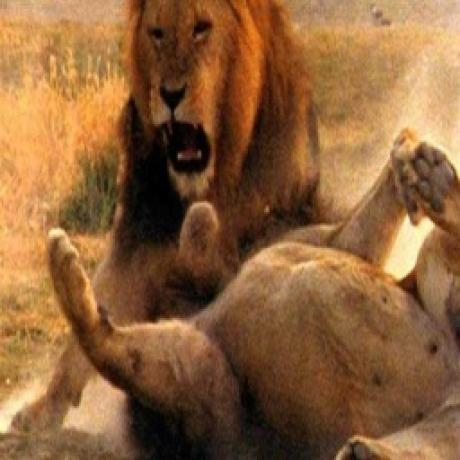Lion: (108, 0, 314, 237)
